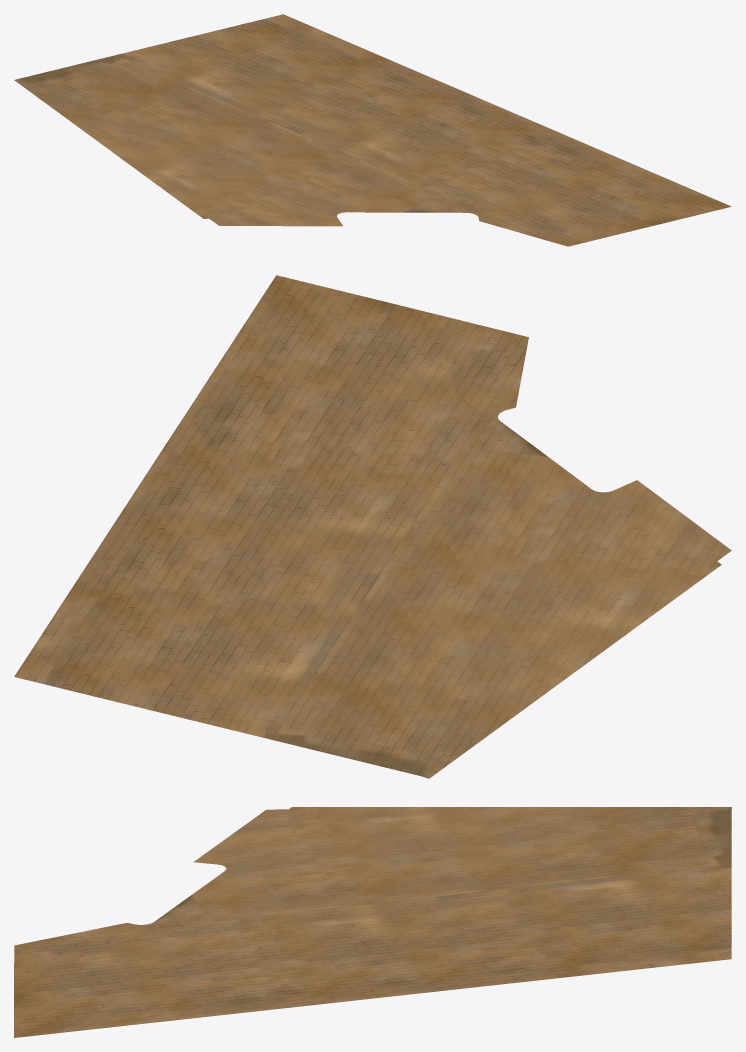
The model's file is PISO.glb.
The picture shows the model from 3 angles, top to bottom: view 1: azimuth 30°, elevation 25°; view 2: azimuth 150°, elevation 25°; view 3: azimuth 270°, elevation 25°; orthographic projection. The views are drawn at different scales.
Visible parts, largest first — view 1: PISOBAKE; view 2: PISOBAKE; view 3: PISOBAKE.
Part boxes in pixels (x1,y1,x2,y2): PISOBAKE: (14,14,731,246); PISOBAKE: (14,275,731,778); PISOBAKE: (14,807,731,1037).
Bounding box in the file's own units: 85.77 × 0.0624 × 113.
1 material, 1 textured.
